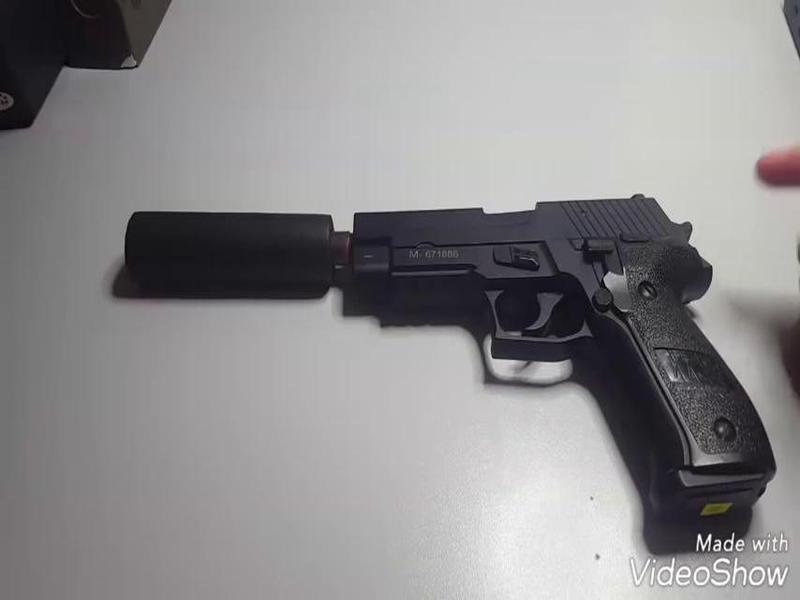Pistola: (345, 189, 782, 519)
